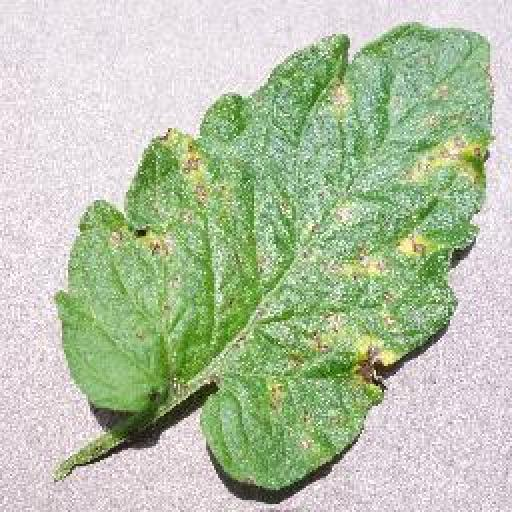disease_tomato: (55, 24, 490, 491)
